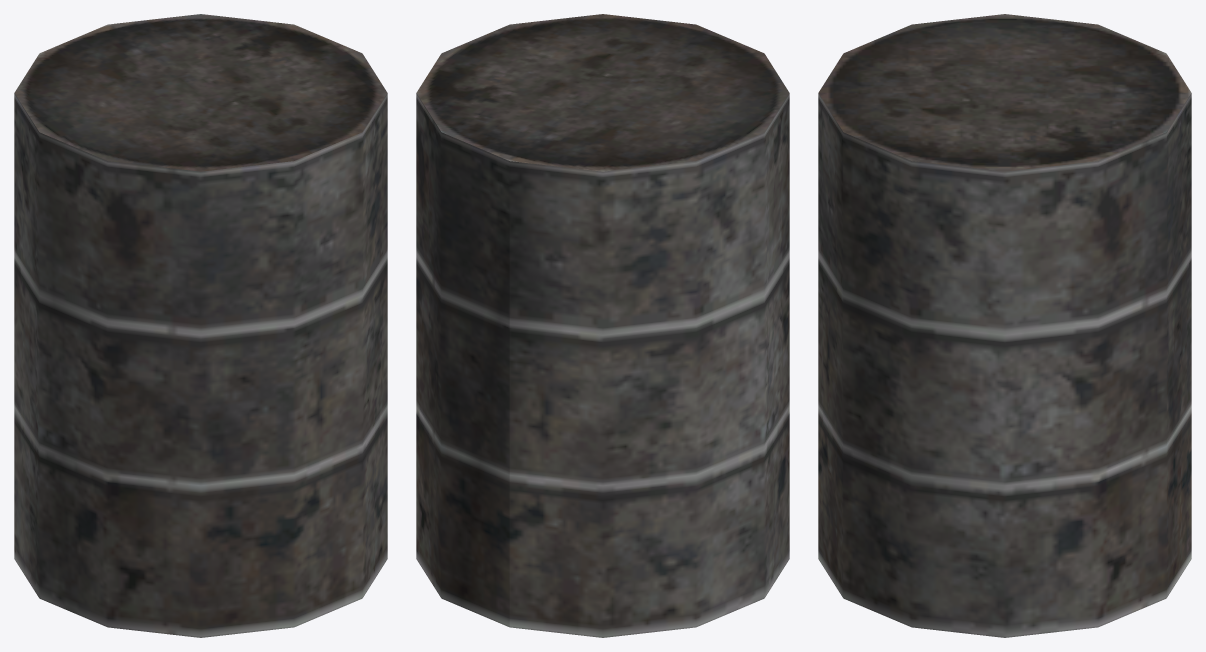
Rendered from Drum.glb.
The picture shows the model from 3 angles, left to right: view 1: azimuth 30°, elevation 25°; view 2: azimuth 150°, elevation 25°; view 3: azimuth 270°, elevation 25°; orthographic projection.
Visible parts, largest first — view 1: _Drum; view 2: _Drum; view 3: _Drum.
Part boxes in pixels (x1=…): _Drum: x1=14, y1=14, x2=387, y2=637; _Drum: x1=416, y1=14, x2=789, y2=637; _Drum: x1=818, y1=14, x2=1191, y2=637.
Bounding box in the file's own units: 1 × 1.38 × 1.
1 material, 1 textured.
